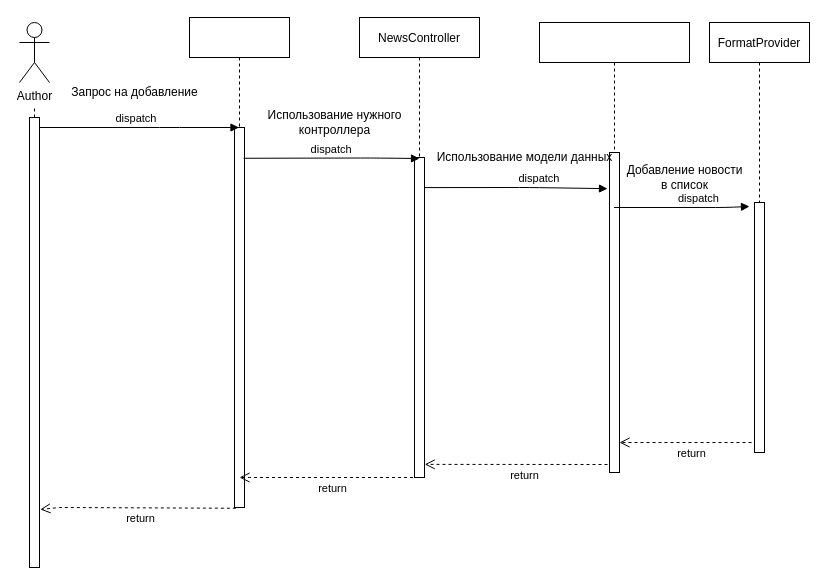
The diagram is 827 pixels wide and 585 high, and some of its shapes have lost their labels. The shapes that lost their labels are listed below. From the top down, each one's box as (x1, y1, x2, y2) in pixels, then its label:
(188, 16, 290, 508): Facade
(538, 22, 690, 472): FormatModel
